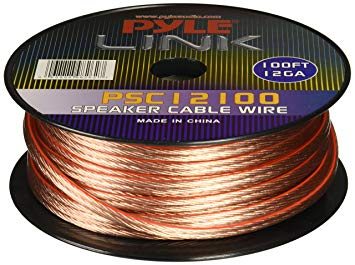Nonrec_Tangler: (4, 4, 345, 243)
